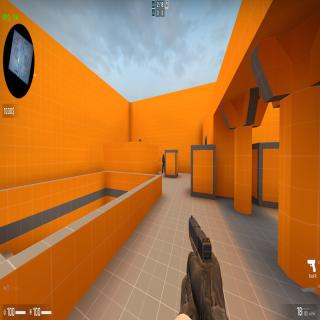CT-Body: (162, 154, 164, 174)
CT-Head: (138, 138, 142, 142), (163, 154, 164, 158)
